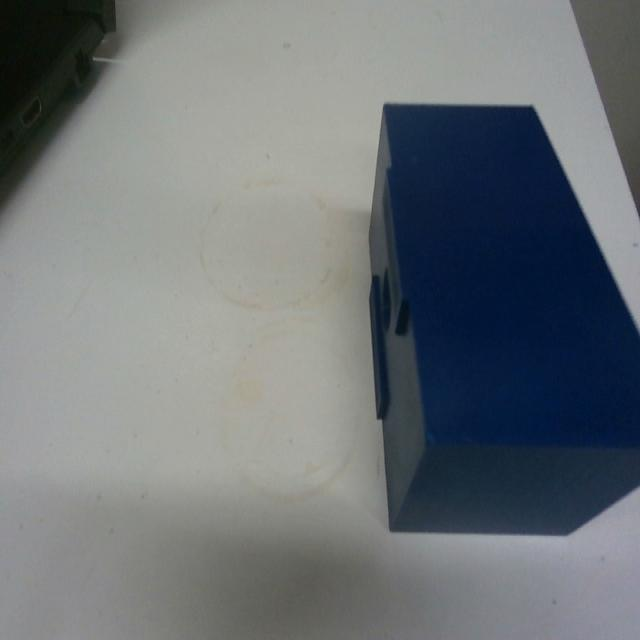Blue Cuboid: (365, 98, 639, 538)
